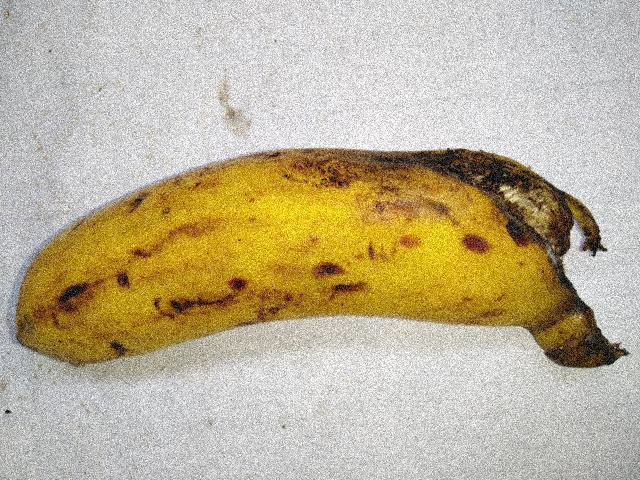ripe: (4, 122, 620, 384)
rotten: (356, 138, 576, 293)
